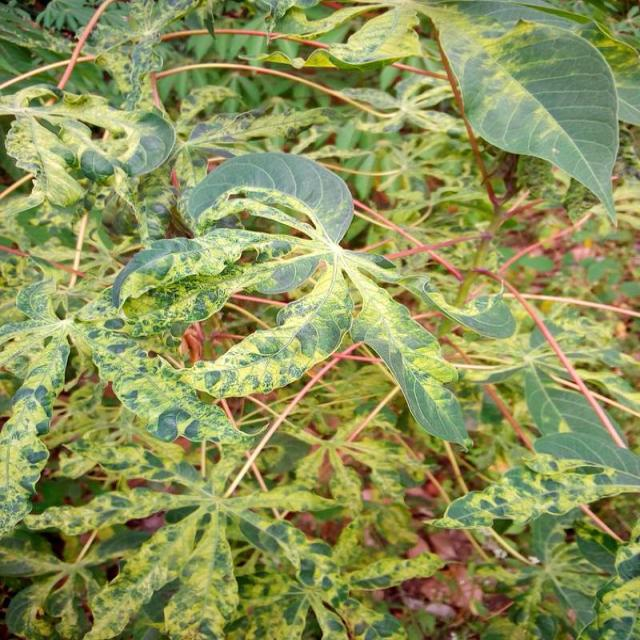cassava leaf: (2, 1, 638, 637), (82, 148, 478, 454), (416, 0, 622, 228)
